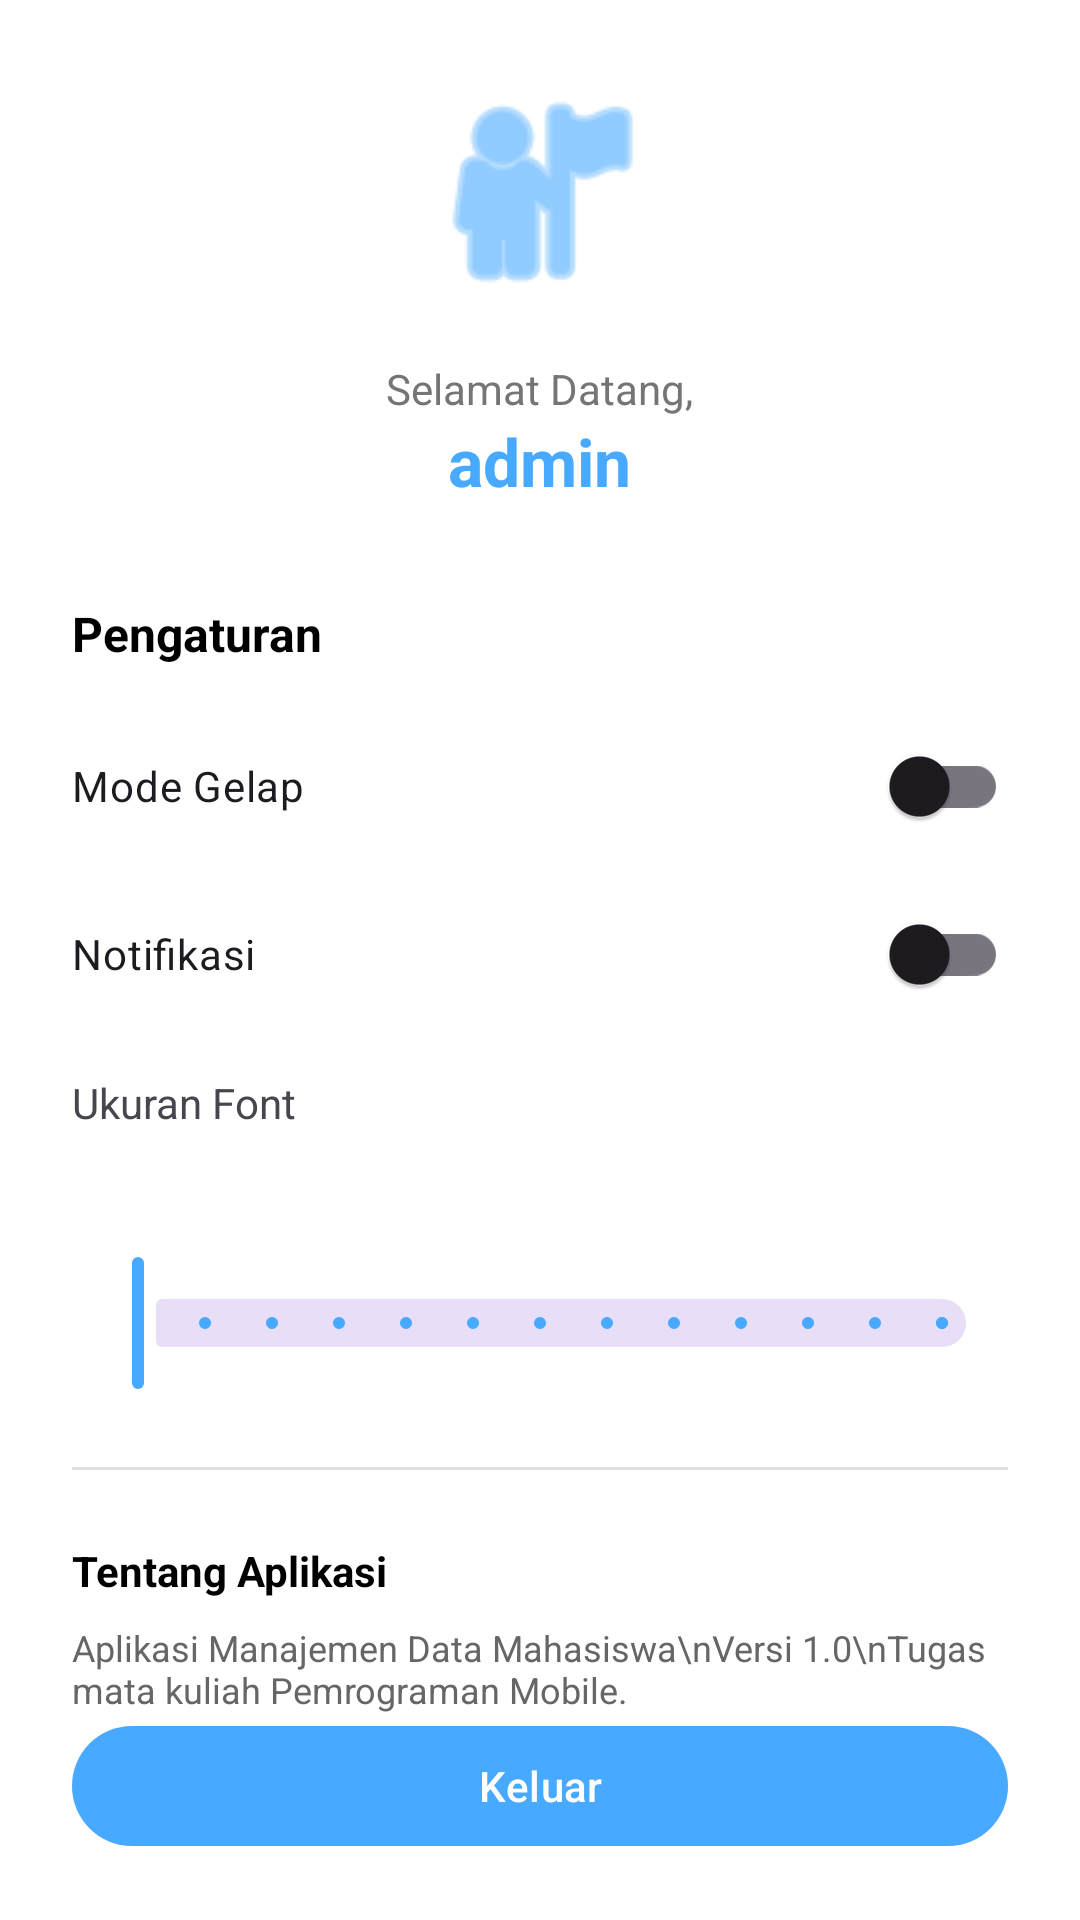

Icons on this 1080x1920 Android screen, each with its box as (x1, y1, x2, y2):
Profile Avatar: (452, 103, 633, 281)
